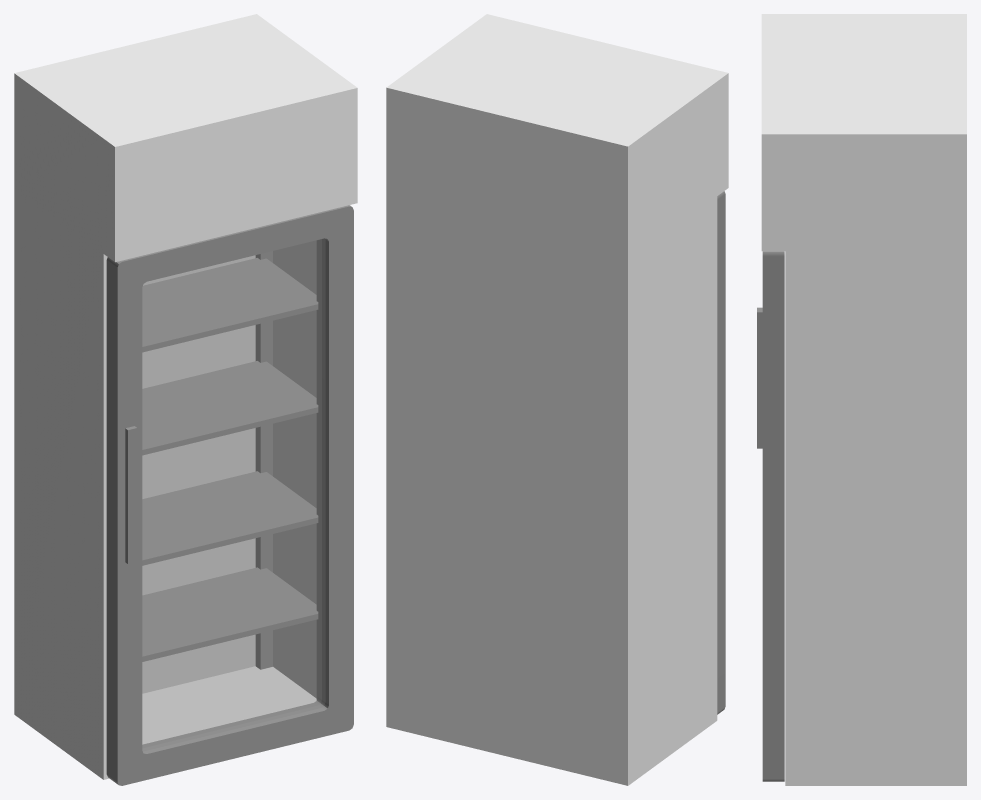
File: PharmaceuticalFridge.fbx
3 views of the same model, side by side, from view 1: azimuth 30°, elevation 25°; view 2: azimuth 150°, elevation 25°; view 3: azimuth 270°, elevation 25° (orthographic).
Visible parts, largest first — view 1: PharmaceuticalFridge; view 2: PharmaceuticalFridge; view 3: PharmaceuticalFridge.
Part boxes in pixels (x1,y1,x2,y2): PharmaceuticalFridge: [14, 14, 357, 785]; PharmaceuticalFridge: [386, 14, 728, 785]; PharmaceuticalFridge: [757, 14, 966, 785].
Size of the model in its own units: 61.89 by 156 by 45.61.
